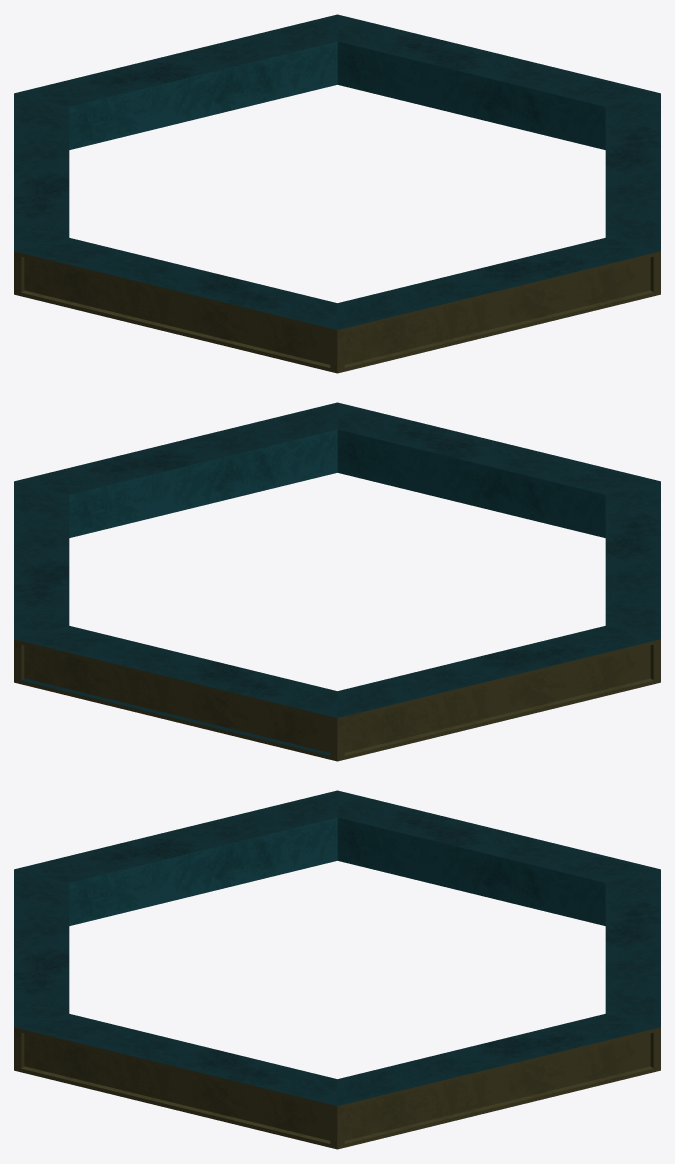
File: hex_ring_model 1.fbx
The picture shows the model from 3 angles, top to bottom: view 1: azimuth 30°, elevation 25°; view 2: azimuth 150°, elevation 25°; view 3: azimuth 270°, elevation 25°; orthographic projection.
Parts seen in each view (by area): view 1: pHexRing; view 2: pHexRing; view 3: pHexRing.
Boxes of the visible parts, left/top/right/bottom form: pHexRing: left=14, top=14, right=660, bottom=373; pHexRing: left=14, top=402, right=660, bottom=761; pHexRing: left=14, top=790, right=660, bottom=1149.
Bounding box in the file's own units: 26.23 × 1.68 × 22.72.
